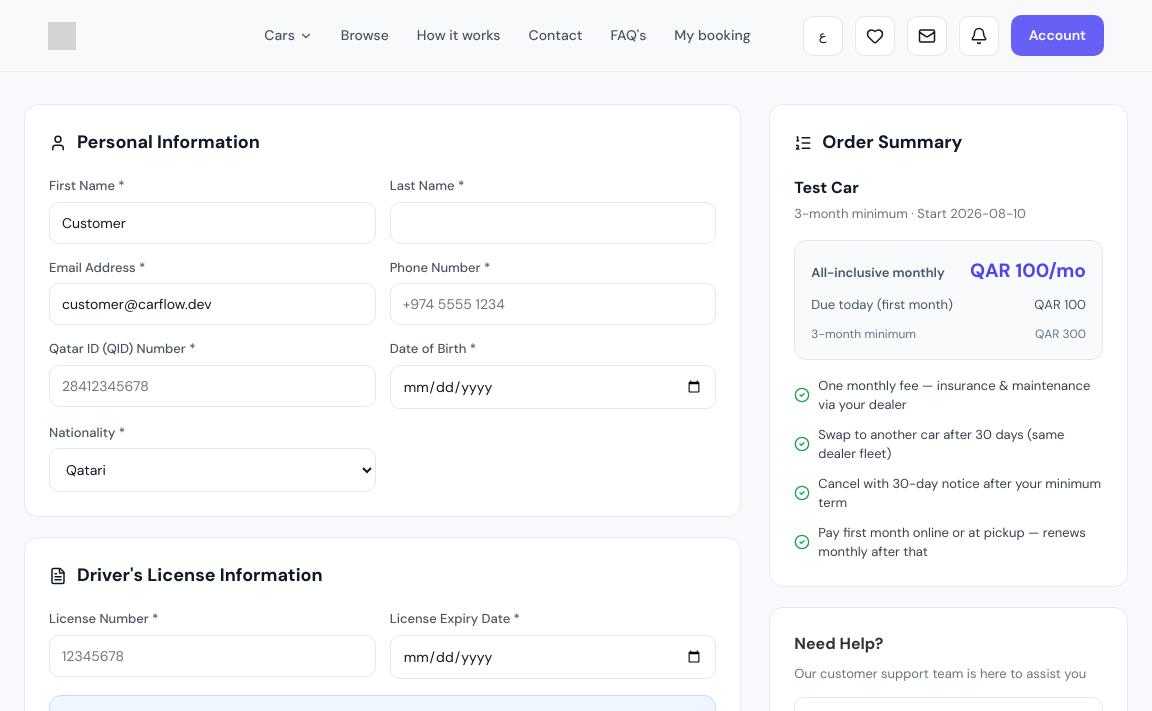
Test: CheckoutPage › UI-C-CHK-03: shows inline errors for invalid Qatar phone and QID
In the field with placeholder "+974 5555 1234": (553, 304) [390,283,716,325], type "+9745000"
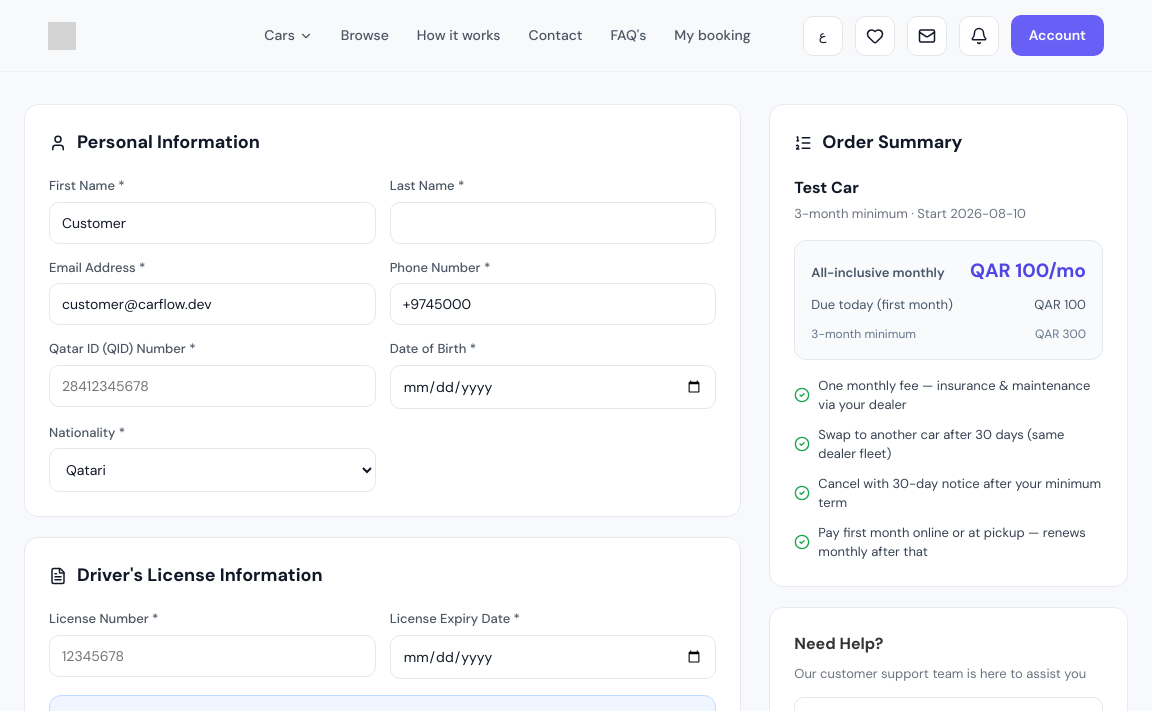
In the field with placeholder "28412345678": (212, 386) [49,364,376,406], type "123"
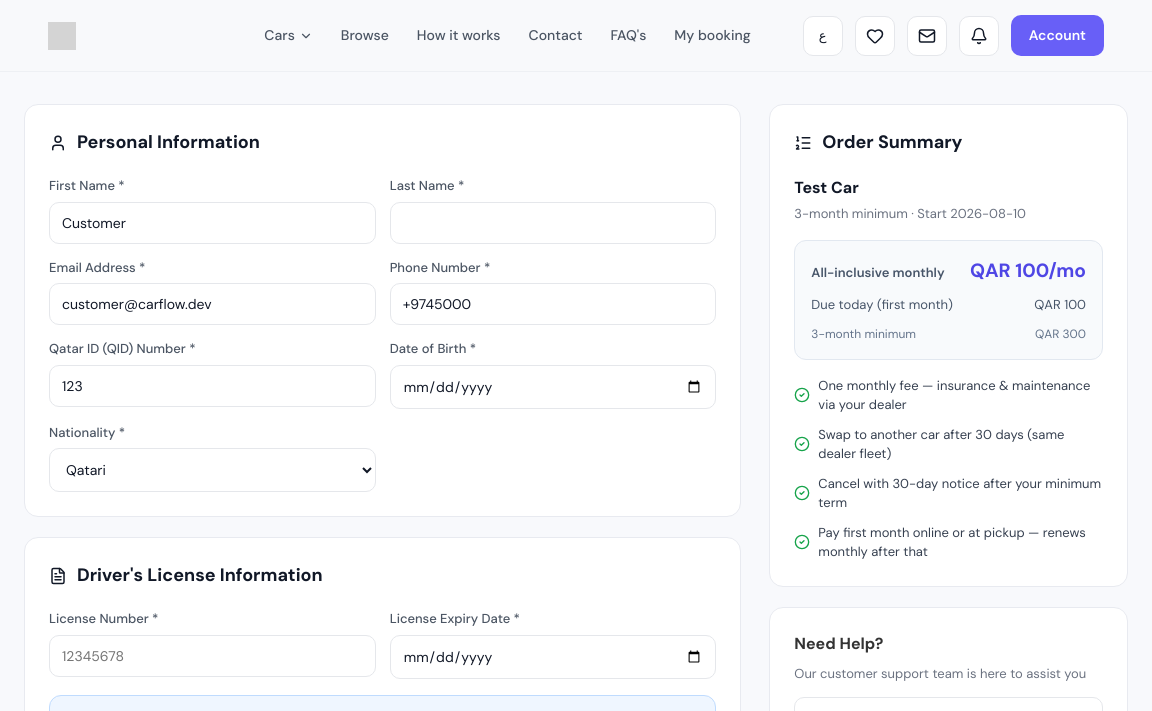
In the field with placeholder "12345678": (212, 656) [49,634,376,676], type "12"
(page scrolled)
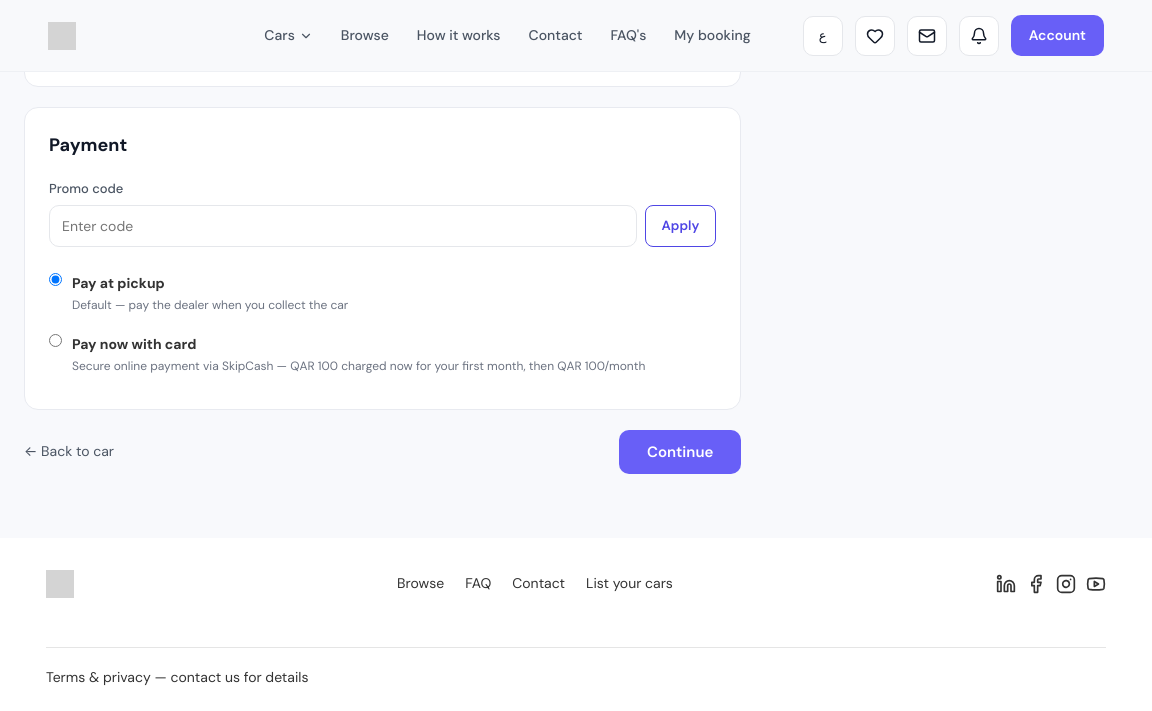
Click the button "Continue": (680, 452) [619,430,741,474]
(page scrolled)
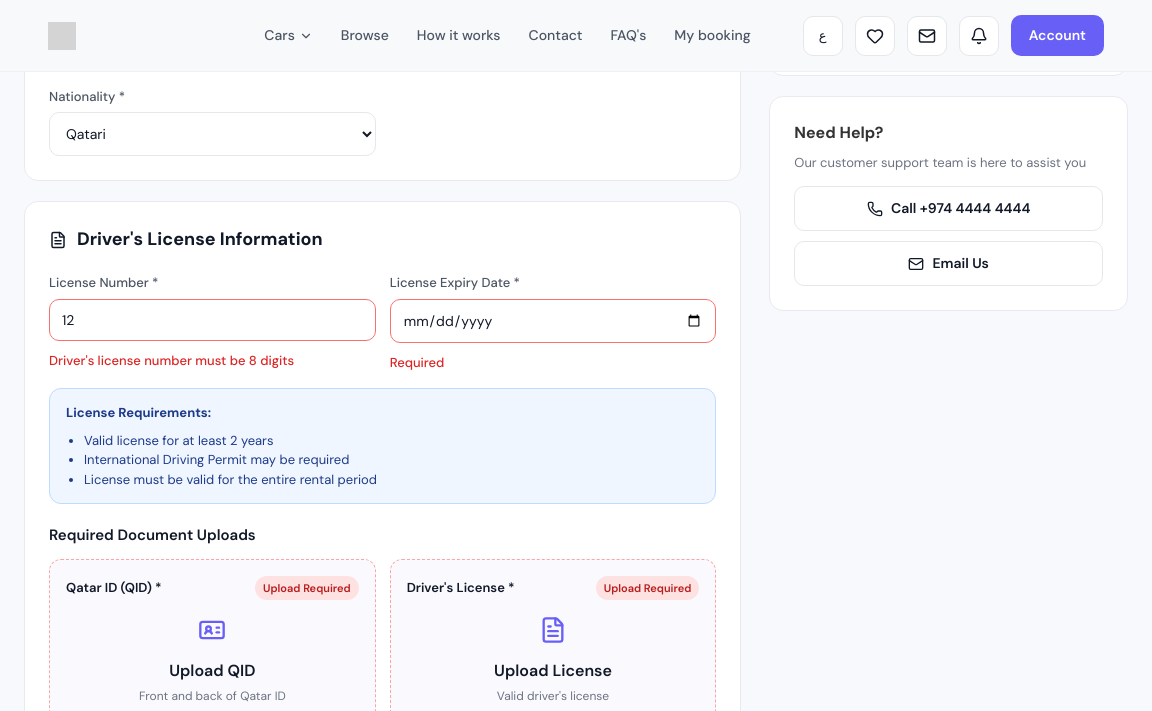
Check: the text "Driver's license number must be 8 digits" is shown, box [49,352,294,368]
